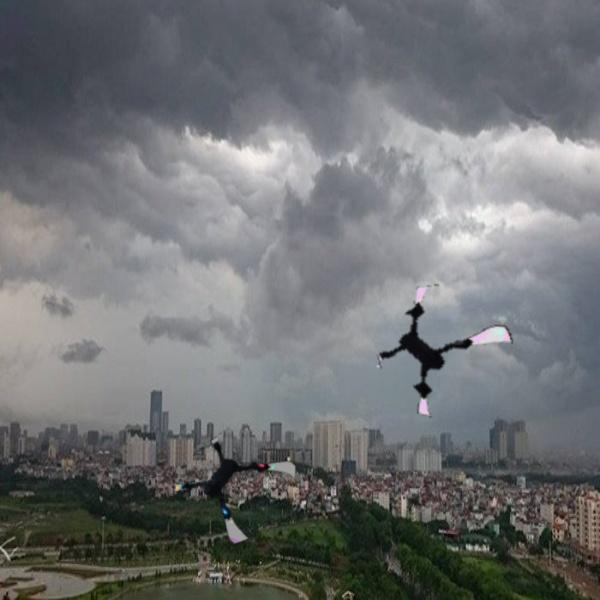drone: (369, 277, 519, 427), (177, 429, 291, 543)
